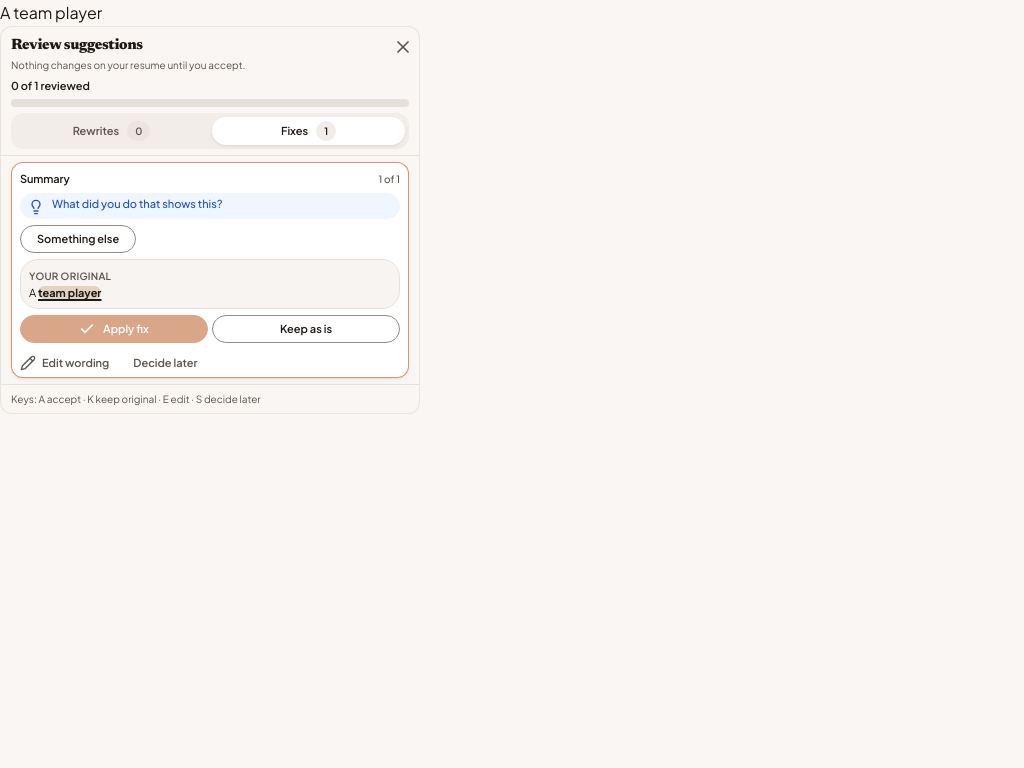
Test: guided panel decisions › applies and undoes style.buzzword through the existing accept path
Click the button "Something else". click: [78, 239]
box: [20,225,136,253]
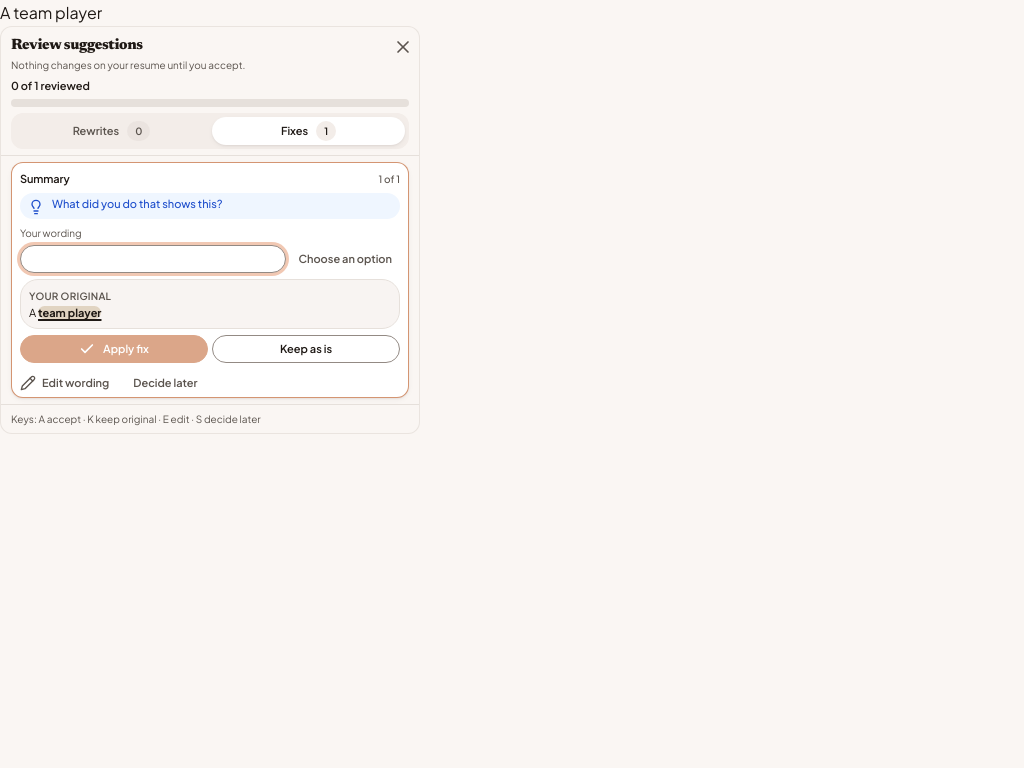
Type "reliable colleague" into the field. click: [153, 259]
box: [20,245,286,273]
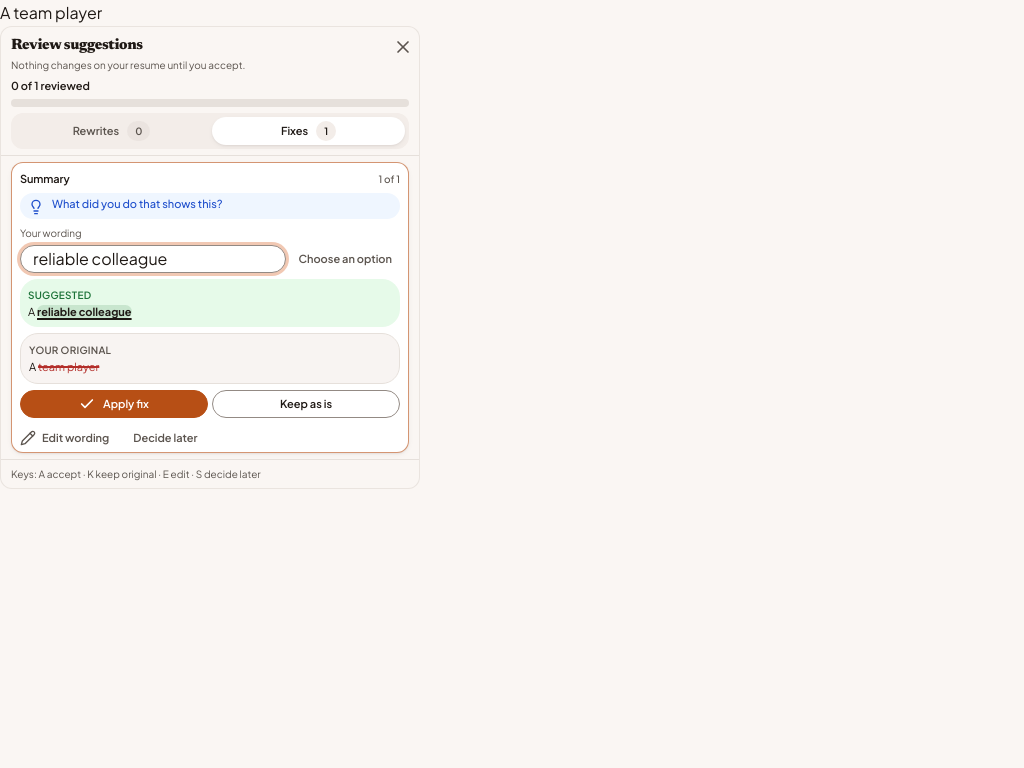
Expected: the text "Suggested" is shown, [28,289,91,301]
Click the button "Apply fix". click: [114, 404]
box: [20,390,208,418]
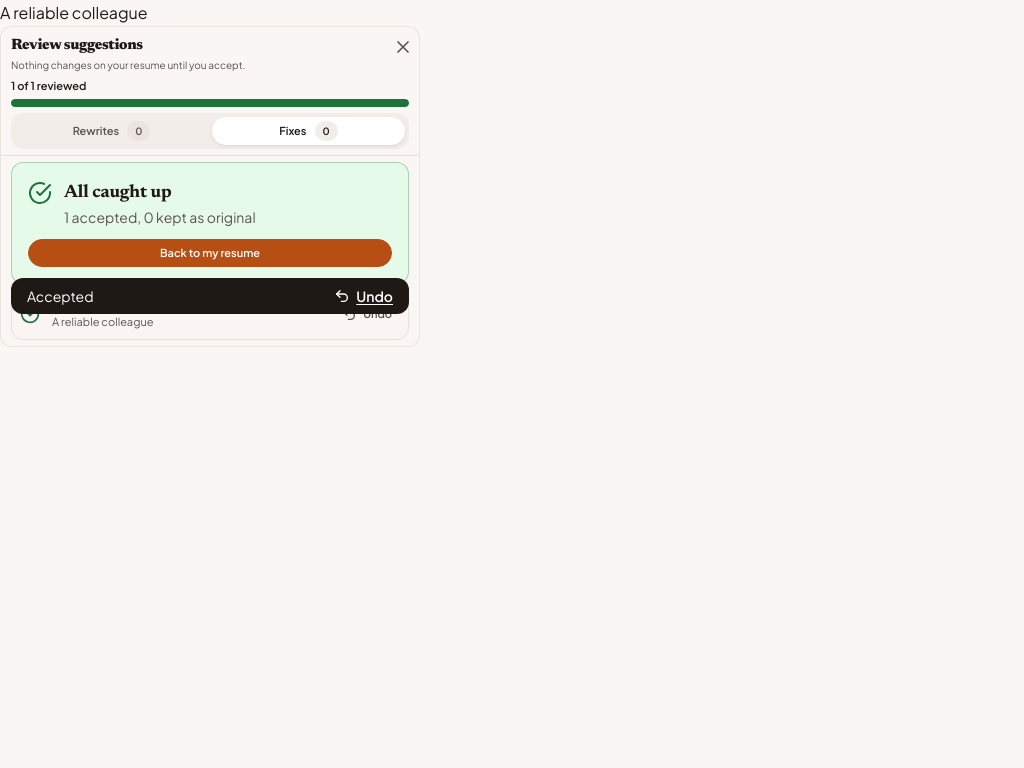
Expected: the text with test id "resume-text" no longer shows "A team player"
Click the 1st button "Undo". click: [364, 296]
box: [322,282,405,310]
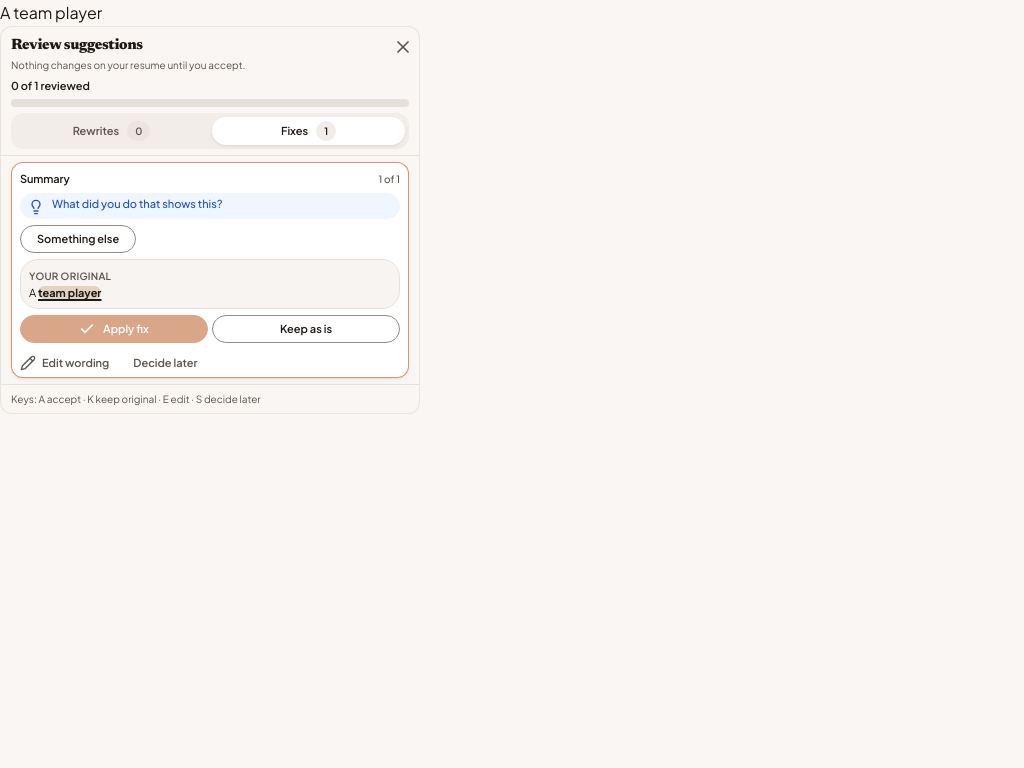
Expected: the text with test id "resume-text" reads "A team player", [0,2,102,23]
